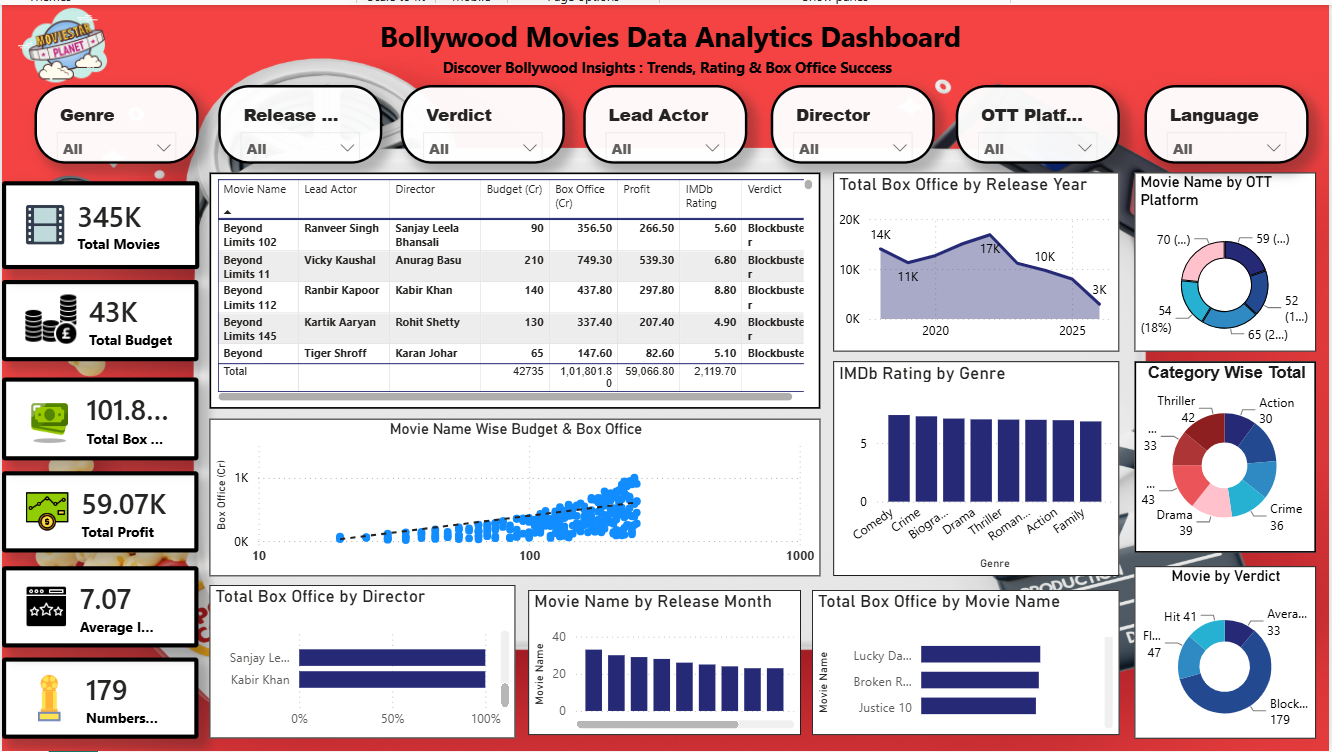

Layout of this report page (visuals, bound fields, positions):
{"tool":"powerbi","page":{"name":"Page 1","canvas":[1280,720],"ordinal":0},"visuals":[{"type":"textbox","box":[0,0,1280,77.2],"z":0},{"type":"image","box":[0,0,121.4,77.1],"z":1000},{"type":"cardVisual","fields":{"Data":["BollywoodMovies.Numbers Of Blockbusters"]},"box":[0,629.8,189.4,78.4],"z":2000},{"type":"slicer","fields":{"Values":["BollywoodMovies.Genre"]},"box":[31.4,77.2,158.6,75.7],"z":3000},{"type":"cardVisual","fields":{"Data":["BollywoodMovies.Total Profit"]},"box":[0,450,189.4,78.4],"z":4000},{"type":"cardVisual","fields":{"Data":["BollywoodMovies.Total Box Office"]},"box":[0,359.5,189.4,79.6],"z":5000},{"type":"cardVisual","fields":{"Data":["BollywoodMovies.Total Budget"]},"box":[0,265.4,189.4,78.4],"z":6000},{"type":"cardVisual","fields":{"Data":["BollywoodMovies.Total Movies"]},"box":[0,170.1,190.6,84.5],"z":7000},{"type":"cardVisual","fields":{"Data":["BollywoodMovies.Average IMDb Rating"]},"box":[0,541.7,189.4,78.4],"z":8000},{"type":"slicer","fields":{"Values":["BollywoodMovies.Release Year"]},"box":[208.7,77.2,158.6,75.7],"z":9000},{"type":"slicer","fields":{"Values":["BollywoodMovies.Lead Actor"]},"box":[561,77.2,158.6,75.7],"z":10000},{"type":"slicer","fields":{"Values":["BollywoodMovies.Verdict"]},"box":[384.9,77.2,158.6,75.7],"z":11000},{"type":"slicer","fields":{"Values":["BollywoodMovies.OTT Platform"]},"box":[920.5,77.2,158.6,75.7],"z":12000},{"type":"slicer","fields":{"Values":["BollywoodMovies.Director"]},"box":[742,77.2,158.6,75.7],"z":13000},{"type":"lineChart","fields":{"Category":["BollywoodMovies.Release Year"],"Y":["BollywoodMovies.Total Box Office"]},"box":[802.3,161.7,276.3,172.5],"z":14000},{"type":"clusteredBarChart","fields":{"Category":["BollywoodMovies.Movie Name"],"Y":["BollywoodMovies.Total Box Office"]},"box":[781.8,564.6,296.8,139.9],"z":15000},{"type":"donutChart","title":"Category Wise Total","fields":{"Y":["CountNonNull(BollywoodMovies.Movie Name)"],"Series":["BollywoodMovies.Genre"]},"box":[1093,343.8,174.9,184.6],"z":16000},{"type":"scatterChart","title":"Movie Name Wise Budget & Box Office","fields":{"X":["Sum(BollywoodMovies.Budget (Cr))"],"Y":["Sum(BollywoodMovies.Box Office (Cr))"],"Category":["BollywoodMovies.Movie Name"]},"box":[200.3,399.3,589.9,152],"z":17000},{"type":"donutChart","title":"Movie by Verdict","fields":{"Series":["BollywoodMovies.Verdict"],"Y":["CountNonNull(BollywoodMovies.Movie Name)"]},"box":[1093,541.7,174.9,166.5],"z":18000},{"type":"donutChart","title":"Movie Name by OTT Platform","fields":{"Series":["BollywoodMovies.OTT Platform"],"Y":["CountNonNull(BollywoodMovies.Movie Name)"]},"box":[1093,161.7,174.9,172.5],"z":19000},{"type":"hundredPercentStackedBarChart","fields":{"Category":["BollywoodMovies.Director"],"Y":["BollywoodMovies.Total Box Office"]},"box":[200.3,559.8,295.6,148.4],"z":20000},{"type":"tableEx","fields":{"Values":["BollywoodMovies.Movie Name","BollywoodMovies.Lead Actor","BollywoodMovies.Director","Sum(BollywoodMovies.Budget (Cr))","Sum(BollywoodMovies.Box Office (Cr))","Sum(BollywoodMovies.Profit)","Sum(BollywoodMovies.IMDb Rating)","BollywoodMovies.Verdict"]},"box":[200.3,161.7,589.9,228],"z":21000},{"type":"columnChart","fields":{"Category":["BollywoodMovies.Genre"],"Y":["BollywoodMovies.Average IMDb Rating"]},"box":[802.3,343.8,276.3,207.5],"z":22000},{"type":"columnChart","fields":{"Category":["BollywoodMovies.Release Month"],"Y":["CountNonNull(BollywoodMovies.Movie Name)"]},"box":[507.9,564.6,263,139.9],"z":23000},{"type":"slicer","fields":{"Values":["BollywoodMovies.Language"]},"box":[1102.7,77.2,158.6,75.7],"z":24000}]}

Visuals, with their boxes in screenshot pixels (x1, y1, x2, y2):
textbox: region(0, 3, 1314, 83)
image: region(0, 3, 125, 83)
cardVisual - BollywoodMovies.Numbers Of Blockbusters: region(0, 650, 194, 730)
slicer - BollywoodMovies.Genre: region(32, 83, 195, 160)
cardVisual - BollywoodMovies.Total Profit: region(0, 465, 194, 546)
cardVisual - BollywoodMovies.Total Box Office: region(0, 372, 194, 454)
cardVisual - BollywoodMovies.Total Budget: region(0, 276, 194, 356)
cardVisual - BollywoodMovies.Total Movies: region(0, 178, 196, 265)
cardVisual - BollywoodMovies.Average IMDb Rating: region(0, 559, 194, 640)
slicer - BollywoodMovies.Release Year: region(214, 83, 377, 160)
slicer - BollywoodMovies.Lead Actor: region(576, 83, 738, 160)
slicer - BollywoodMovies.Verdict: region(395, 83, 558, 160)
slicer - BollywoodMovies.OTT Platform: region(945, 83, 1107, 160)
slicer - BollywoodMovies.Director: region(761, 83, 924, 160)
lineChart - BollywoodMovies.Release Year x BollywoodMovies.Total Box Office: region(823, 169, 1107, 346)
clusteredBarChart - BollywoodMovies.Movie Name x BollywoodMovies.Total Box Office: region(802, 583, 1107, 726)
"Category Wise Total" donutChart: region(1122, 356, 1301, 546)
"Movie Name Wise Budget & Box Office" scatterChart: region(206, 413, 811, 569)
"Movie by Verdict" donutChart: region(1122, 559, 1301, 730)
"Movie Name by OTT Platform" donutChart: region(1122, 169, 1301, 346)
hundredPercentStackedBarChart - BollywoodMovies.Director x BollywoodMovies.Total Box Office: region(206, 578, 509, 730)
tableEx - BollywoodMovies.Movie Name x BollywoodMovies.Lead Actor: region(206, 169, 811, 403)
columnChart - BollywoodMovies.Genre x BollywoodMovies.Average IMDb Rating: region(823, 356, 1107, 569)
columnChart - BollywoodMovies.Release Month x CountNonNull(BollywoodMovies.Movie Name): region(521, 583, 791, 726)
slicer - BollywoodMovies.Language: region(1132, 83, 1294, 160)
